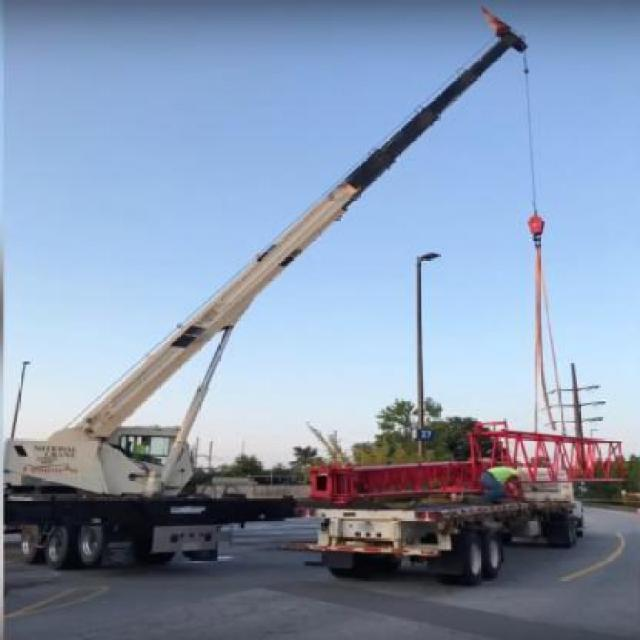Mobile Crane: (0, 4, 546, 574)
